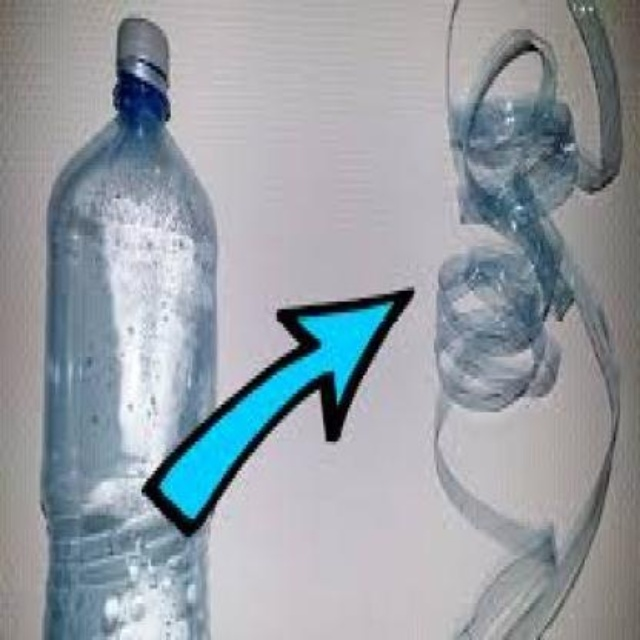trash: (46, 18, 215, 638)
